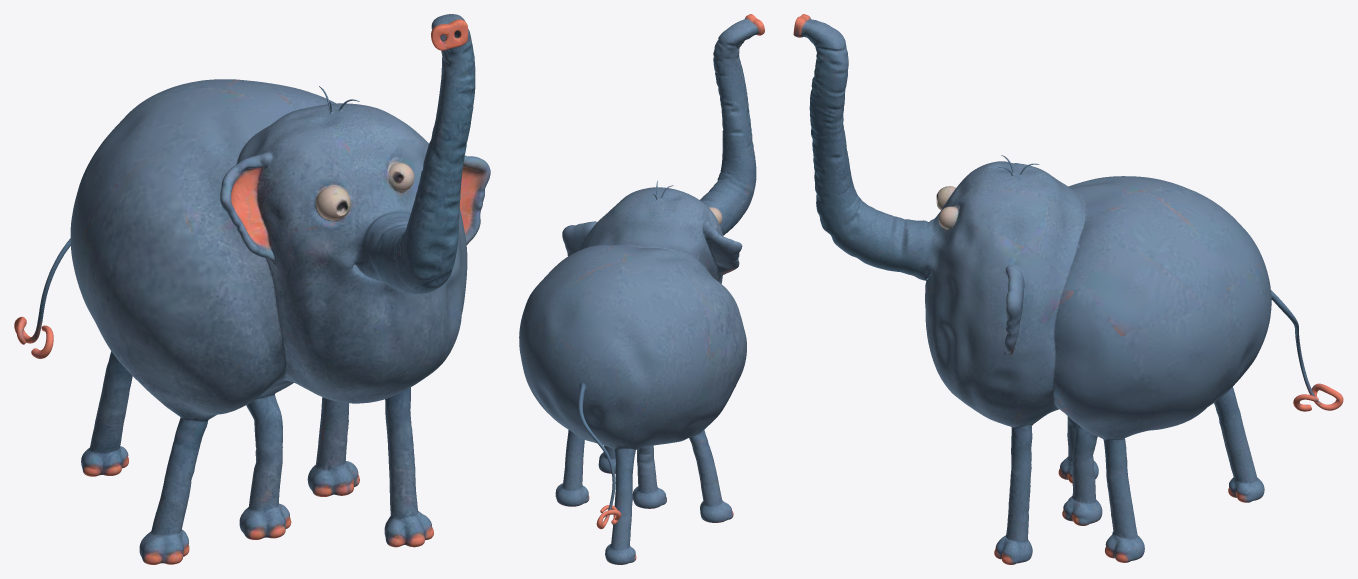
File: snufflephant.glb
The picture shows the model from 3 angles, left to right: view 1: azimuth 30°, elevation 25°; view 2: azimuth 150°, elevation 25°; view 3: azimuth 270°, elevation 25°; orthographic projection. The views are drawn at different scales.
Parts seen in each view (by area): view 1: mesh_node; view 2: mesh_node; view 3: mesh_node.
Boxes of the visible parts, x1,y1,x2,y2 form: mesh_node: (14,14,490,564); mesh_node: (519,14,764,564); mesh_node: (793,14,1343,564).
Bounding box in the file's own units: 1.02 × 1.9 × 1.86.
1 material, 1 textured.
